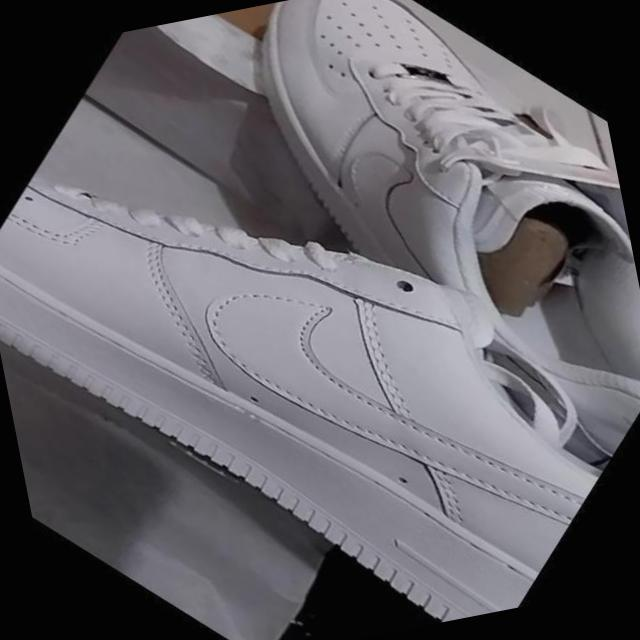nike_fake_airforce: (0, 0, 640, 640), (159, 0, 640, 497)
